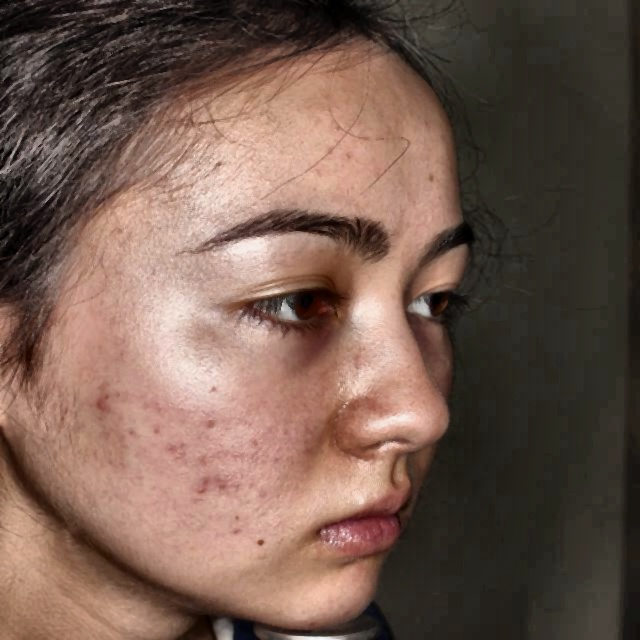comedone: (74, 390, 115, 415)
